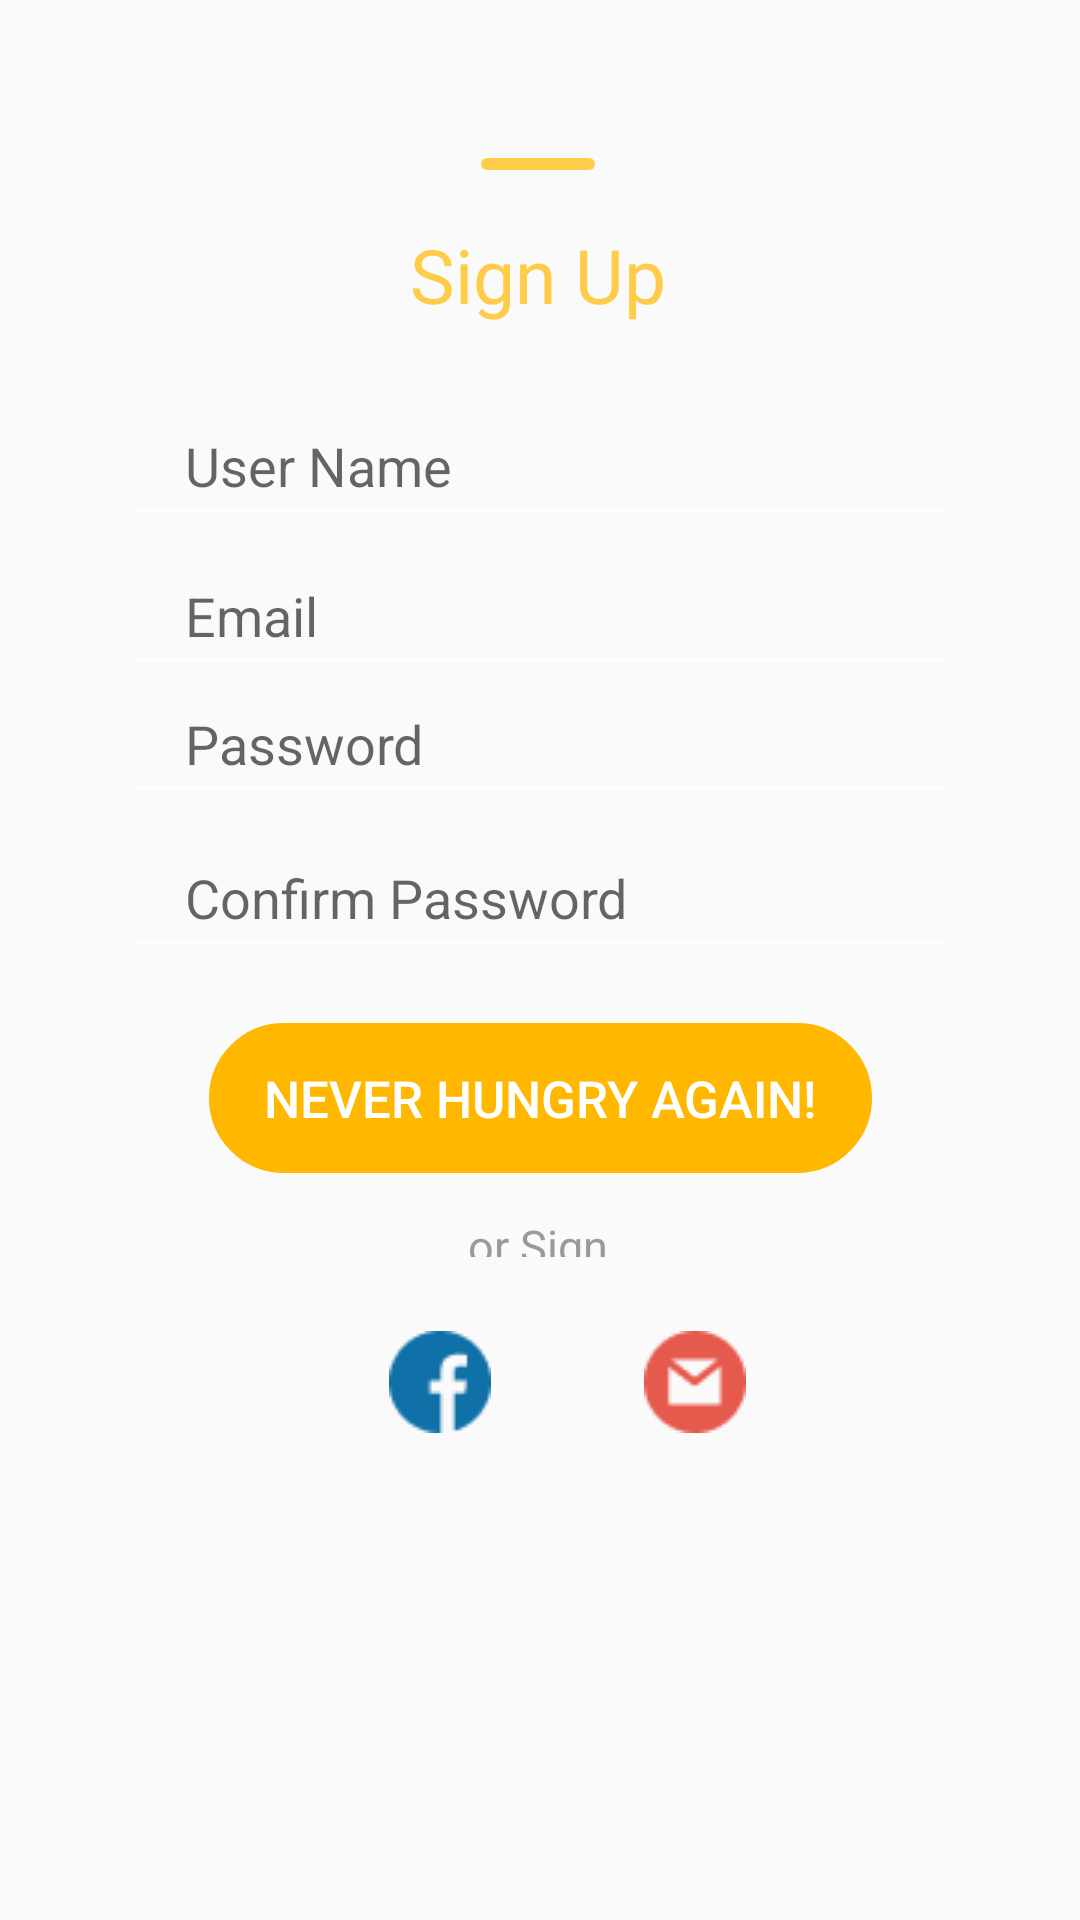

Named icons in this screenshot (1080 × 1920) and their centers, (x,y):
gmail: (695,1382)
